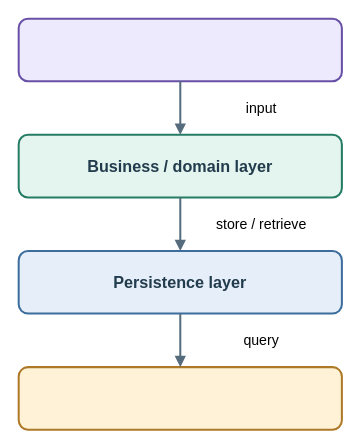
Image size: 360x447. Some labels were removed from this diagram. The box of each missing label's shape, as (x1, y1, x2, y2) in pixels:
Database layer: (17, 366, 342, 430)
Presentation layer: (17, 17, 342, 82)
